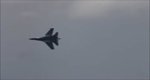maybay_muctieu: (28, 29, 60, 51)
